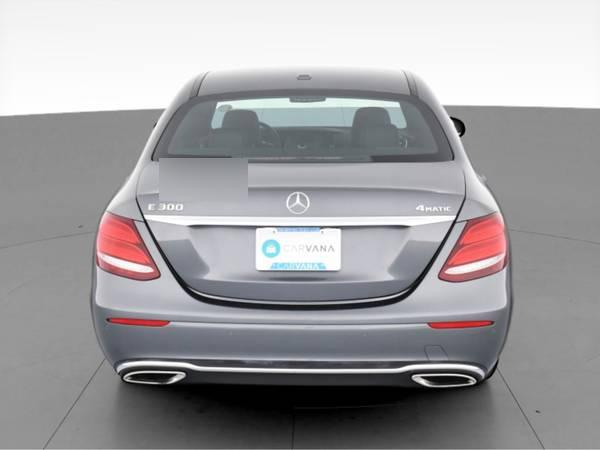Left_Taillight: (93, 213, 162, 285)
Rear_Bumper: (87, 264, 511, 389)
Rear_Windshield: (153, 88, 456, 163)
Right_Taillight: (437, 212, 510, 284)
Roof: (137, 69, 463, 165)
Tailgate: (107, 158, 491, 312)
